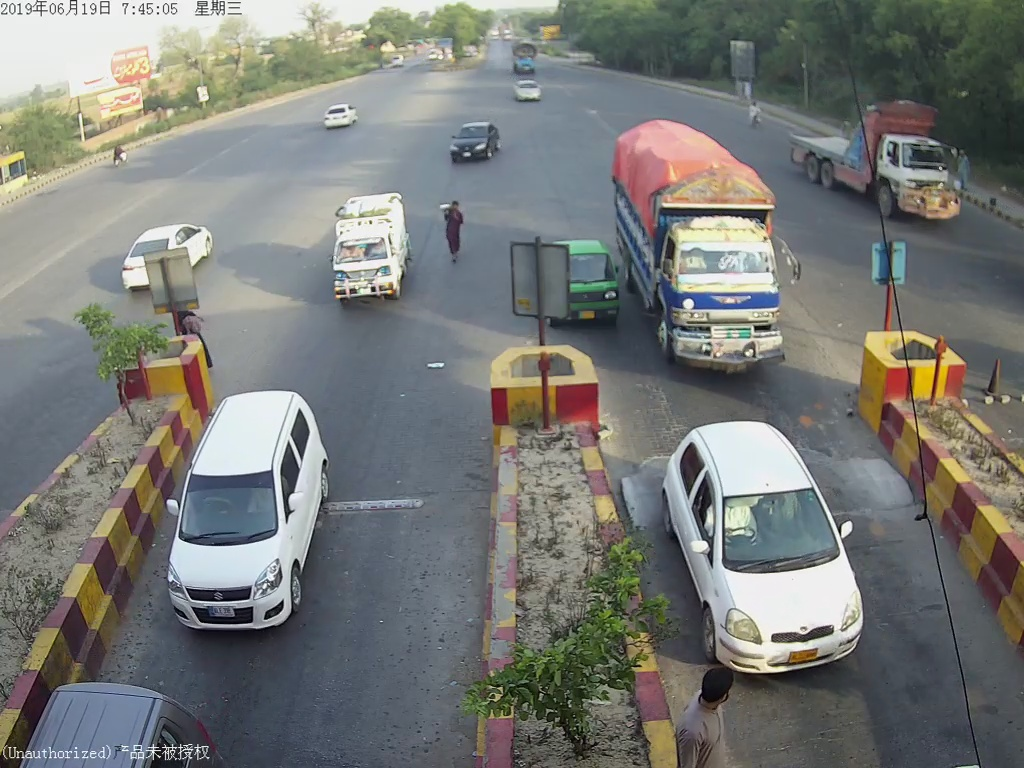Cat-1: (655, 429, 872, 663), (161, 388, 345, 615), (329, 198, 406, 302)
Cat-4: (623, 124, 795, 375)
